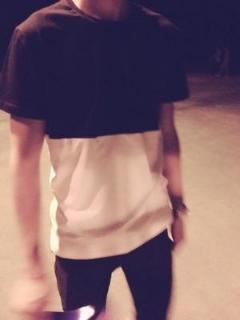short sleeve top: (0, 0, 189, 259)
trousers: (54, 219, 175, 319)
